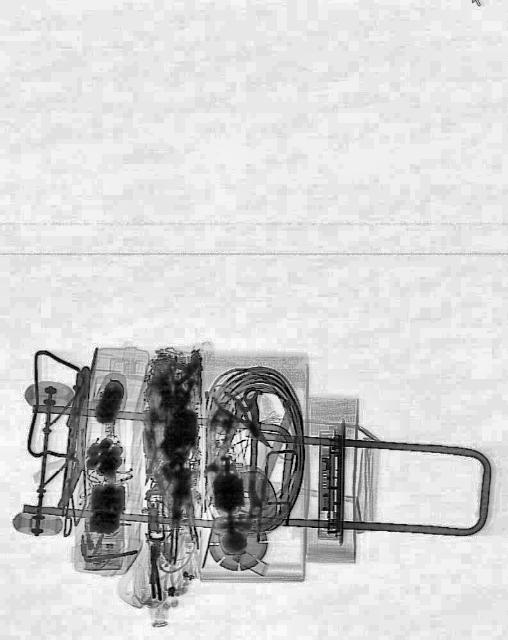Pliers: (209, 382, 275, 454)
Wrench: (200, 392, 254, 483), (242, 386, 262, 520)
